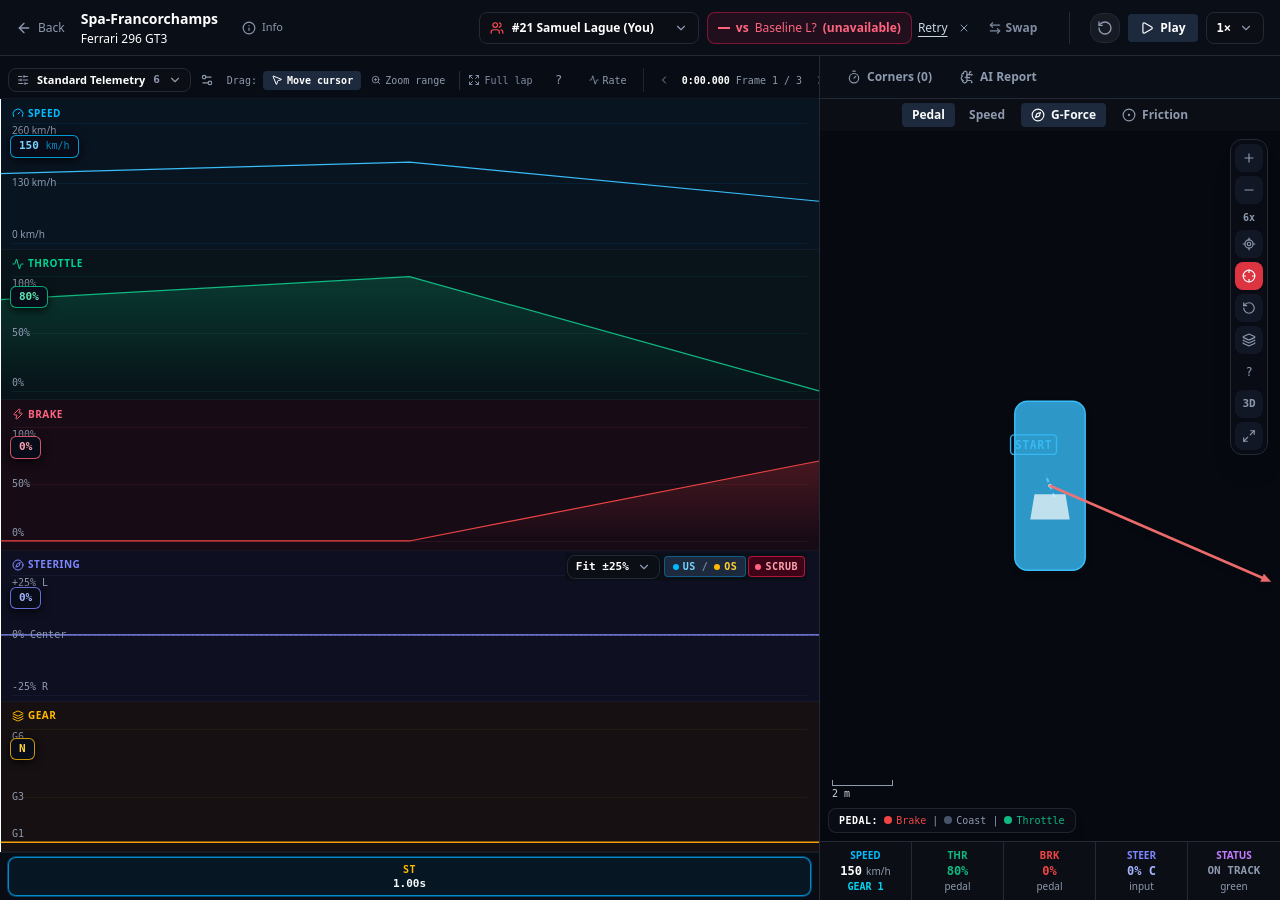
Test case: ReplayInspectorModal - Comparison & Source Modes › reports a comparison lap without samples and loads it again on Retry
Expected: the button titled "Comparison lap has no telemetry samples" is shown, [707,12,912,44]
What coordinates should you click on to do the following:
click the button with aria-label "Retry comparison lap"
I would click on:
 (933, 28)
Its box is [918,20,948,36].
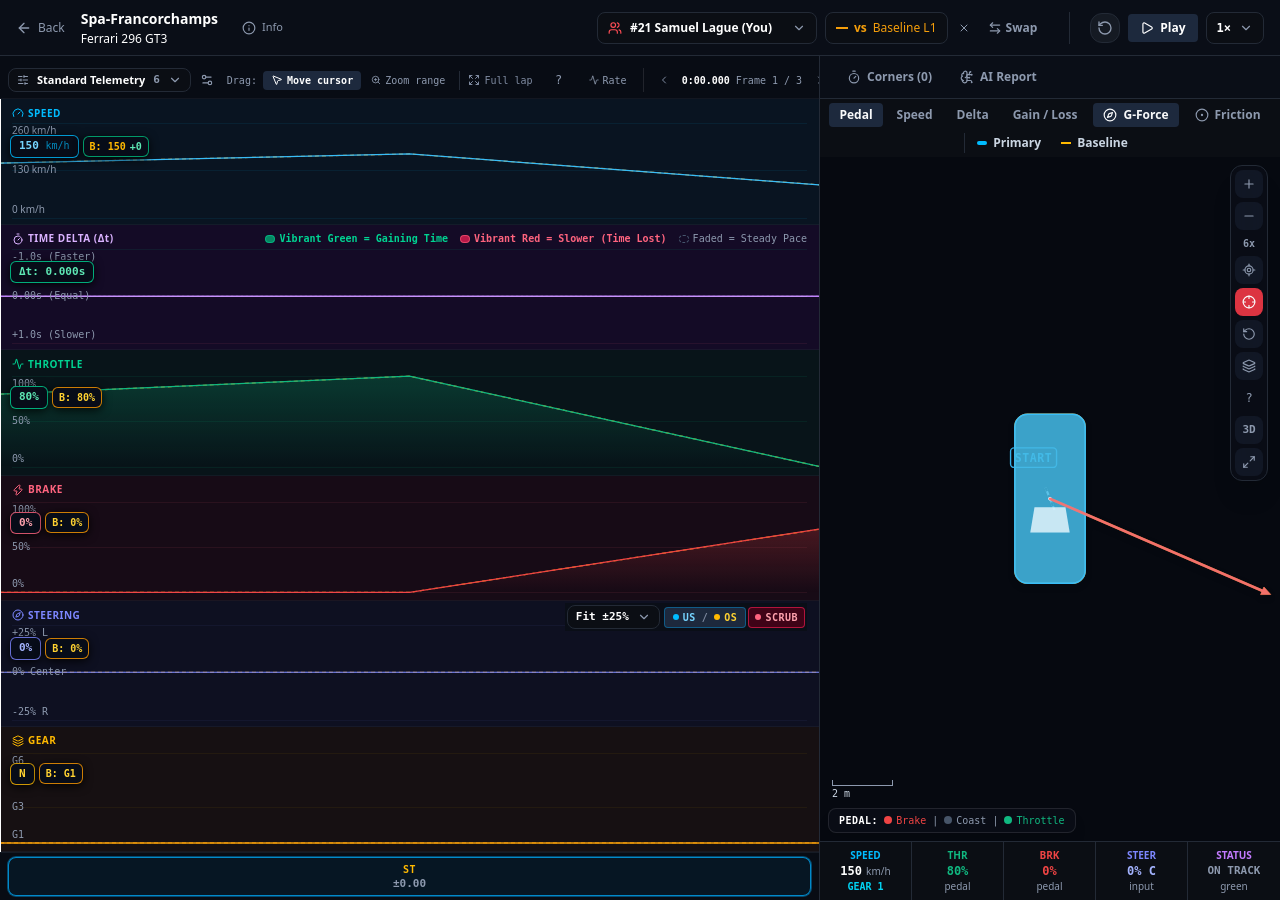
Now the button titled "Click to change the comparison lap" is shown, box [825,12,948,44]
